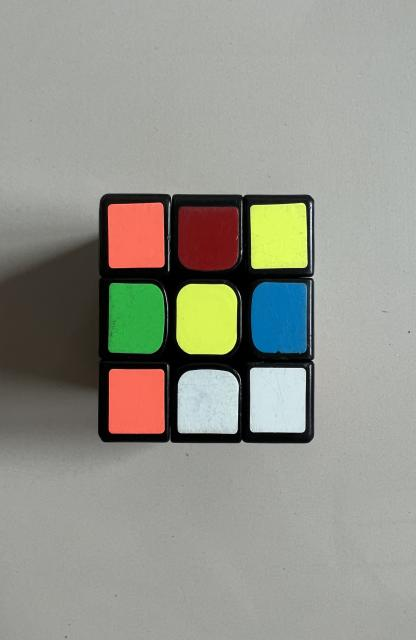Blue: (251, 282, 307, 354)
Green: (108, 282, 165, 354)
Orange: (107, 202, 165, 269), (108, 369, 165, 434)
Red: (178, 206, 238, 271)
White: (178, 369, 239, 434), (250, 368, 307, 432)
Yellow: (177, 284, 237, 355), (250, 202, 308, 269)
